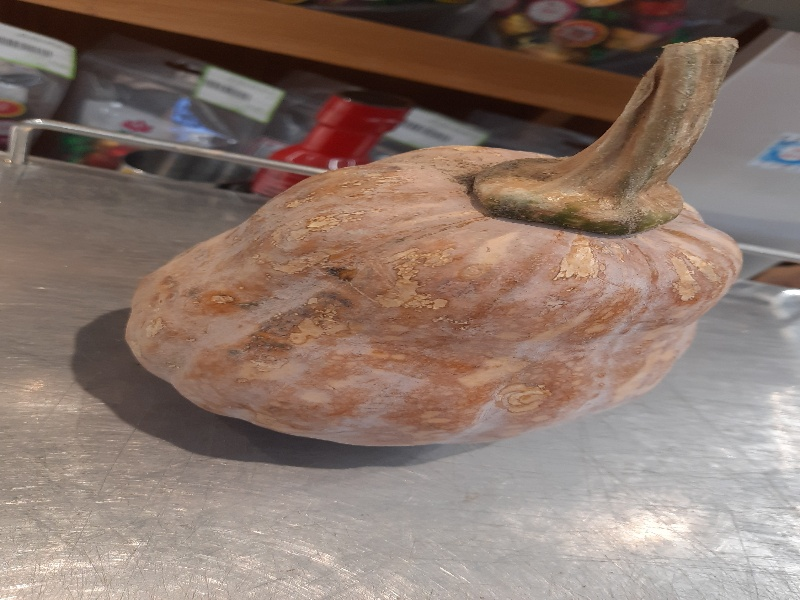vege: (114, 31, 752, 454)
